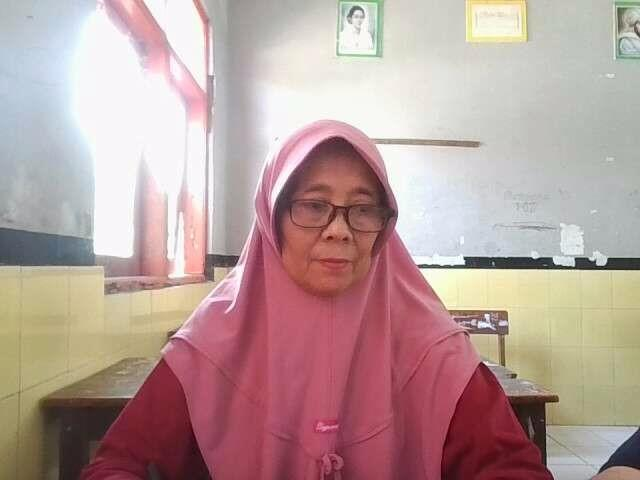cheating: (240, 93, 418, 318)
